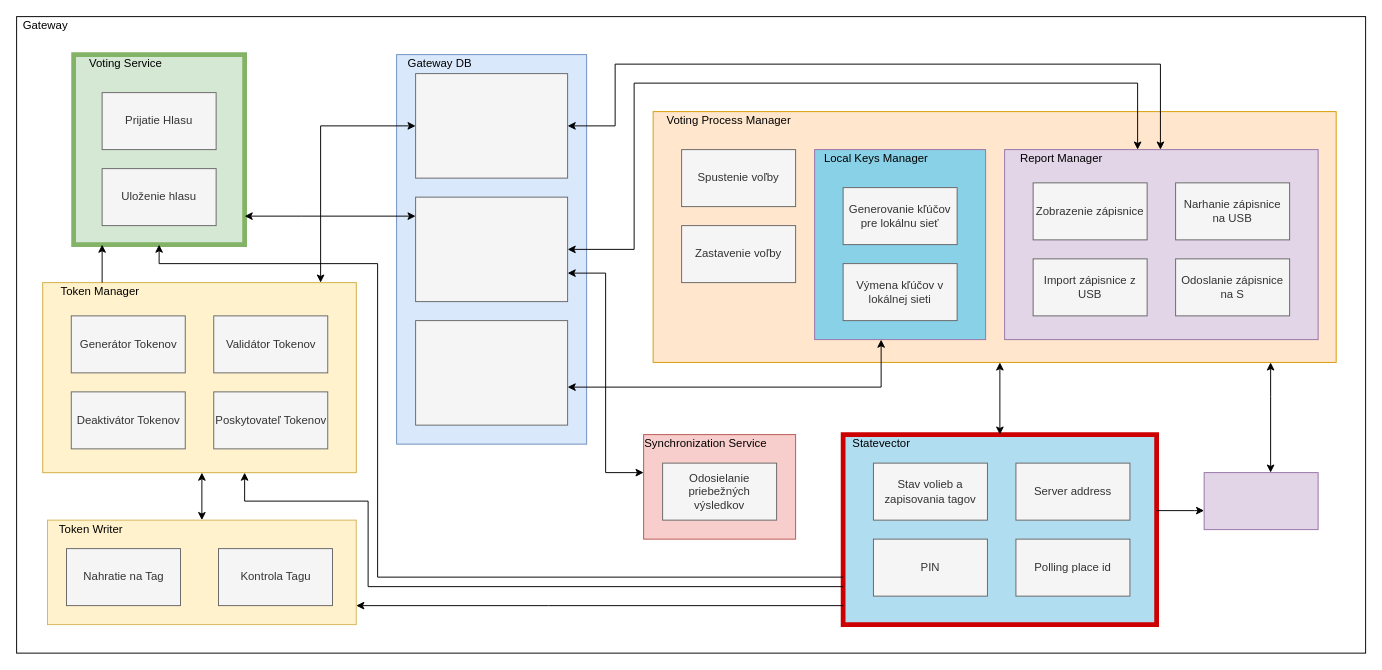
This 1382x670 diagram has some shape labels left out. Each missing label, with the box of its shape:
Admin Frontend: (1203, 472, 1318, 530)
Keys DB: (415, 320, 568, 425)
Token DB: (415, 73, 568, 178)
Vote DB: (415, 196, 568, 302)
